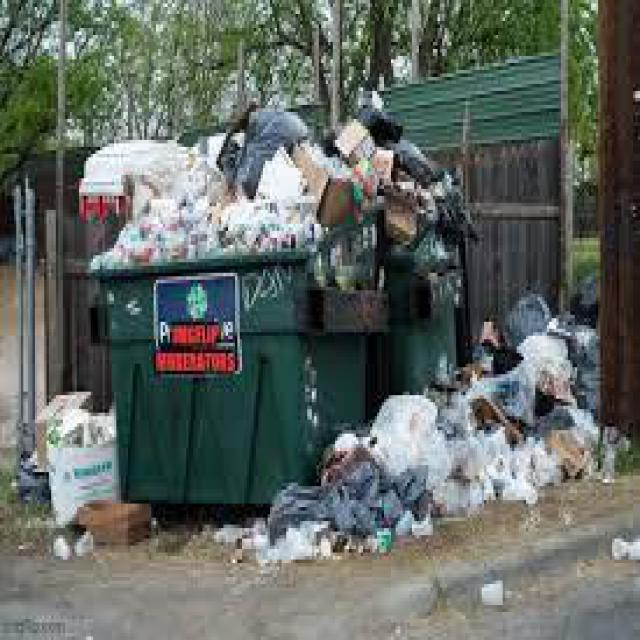garbage: (107, 154, 419, 262), (402, 381, 616, 514), (480, 322, 600, 406), (316, 437, 412, 539)
